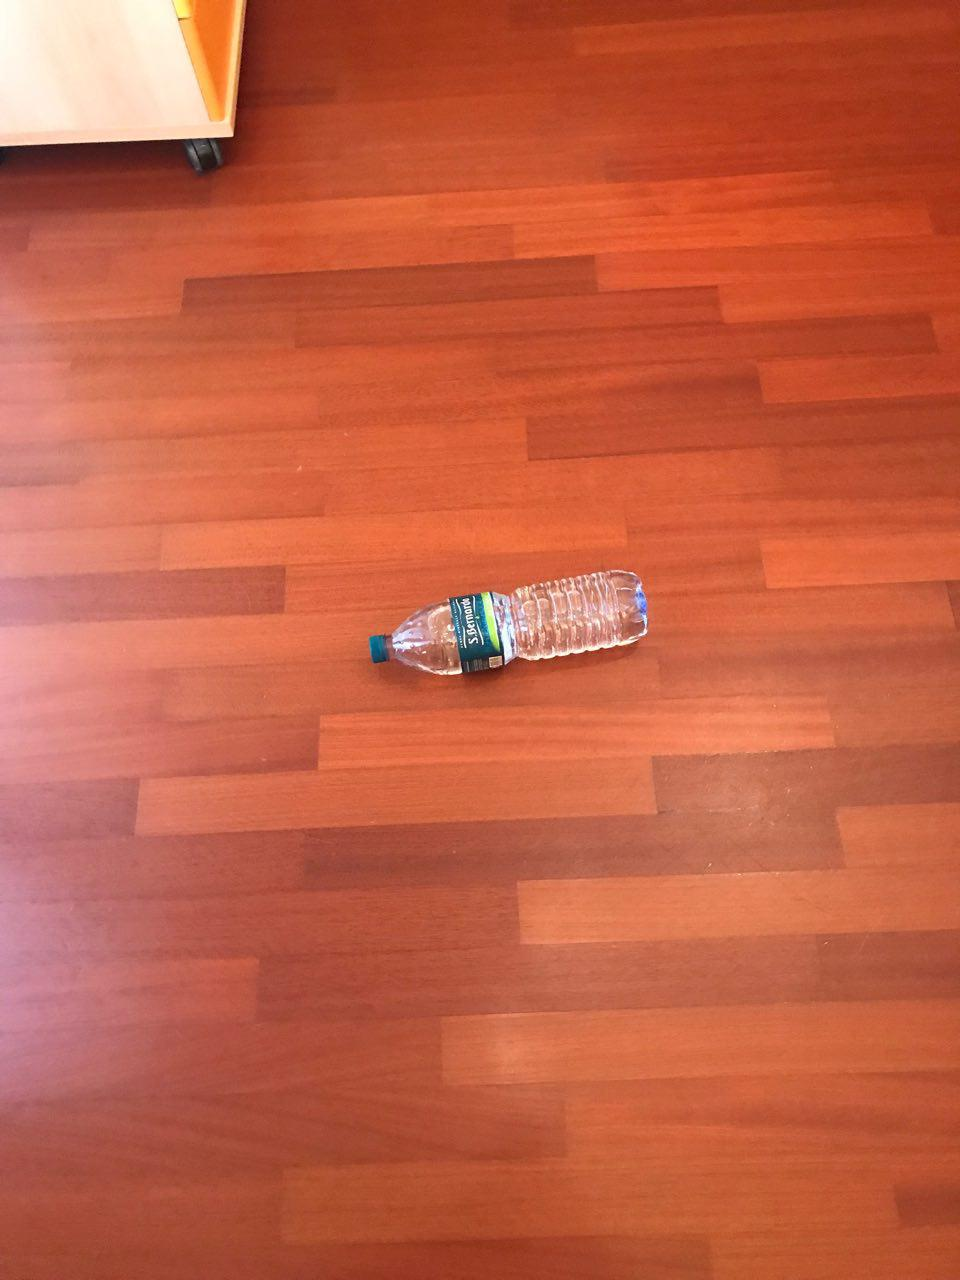san_bernardo: (367, 570, 649, 675)
